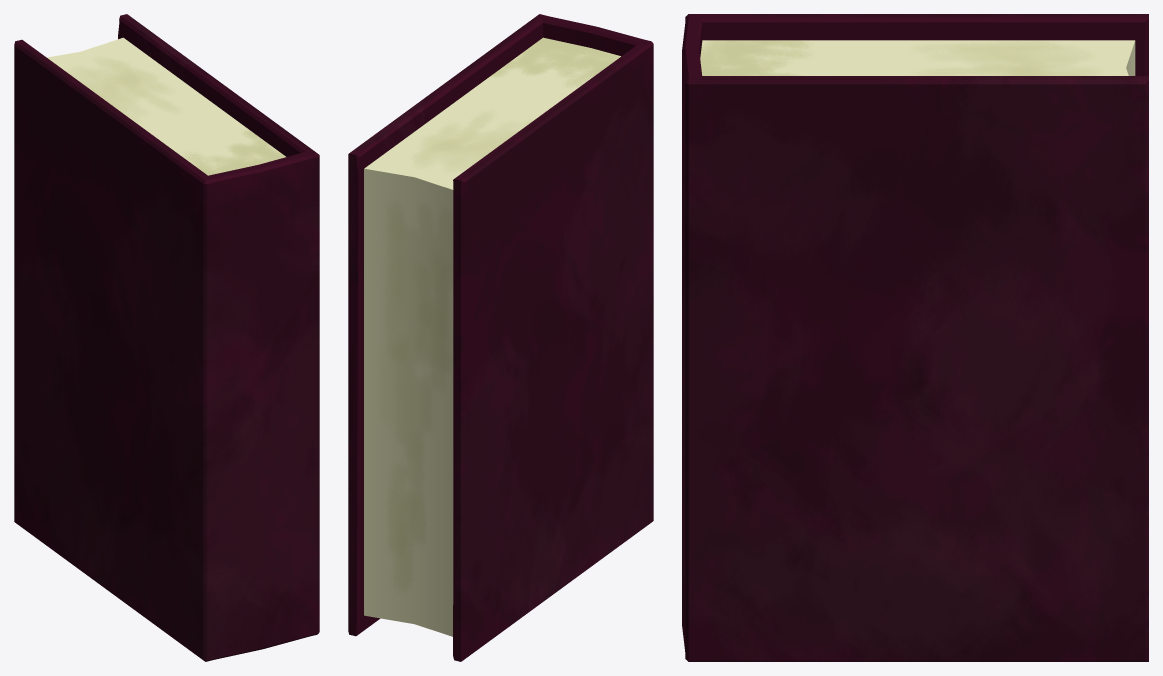
Rendered from Prop_Book_01.fbx.
3 renders of one model, left to right at view 1: azimuth 30°, elevation 25°; view 2: azimuth 150°, elevation 25°; view 3: azimuth 270°, elevation 25°, orthographic. The views are drawn at different scales.
Visible parts, largest first — view 1: Prop_Book_01; view 2: Prop_Book_01; view 3: Prop_Book_01.
Part boxes in pixels (bbox=[...]): Prop_Book_01: bbox=[14, 14, 319, 661]; Prop_Book_01: bbox=[348, 14, 653, 661]; Prop_Book_01: bbox=[682, 14, 1148, 661].
Size of the model in its own units: 6.08 by 23.99 by 17.44.
1 material, 1 textured.
